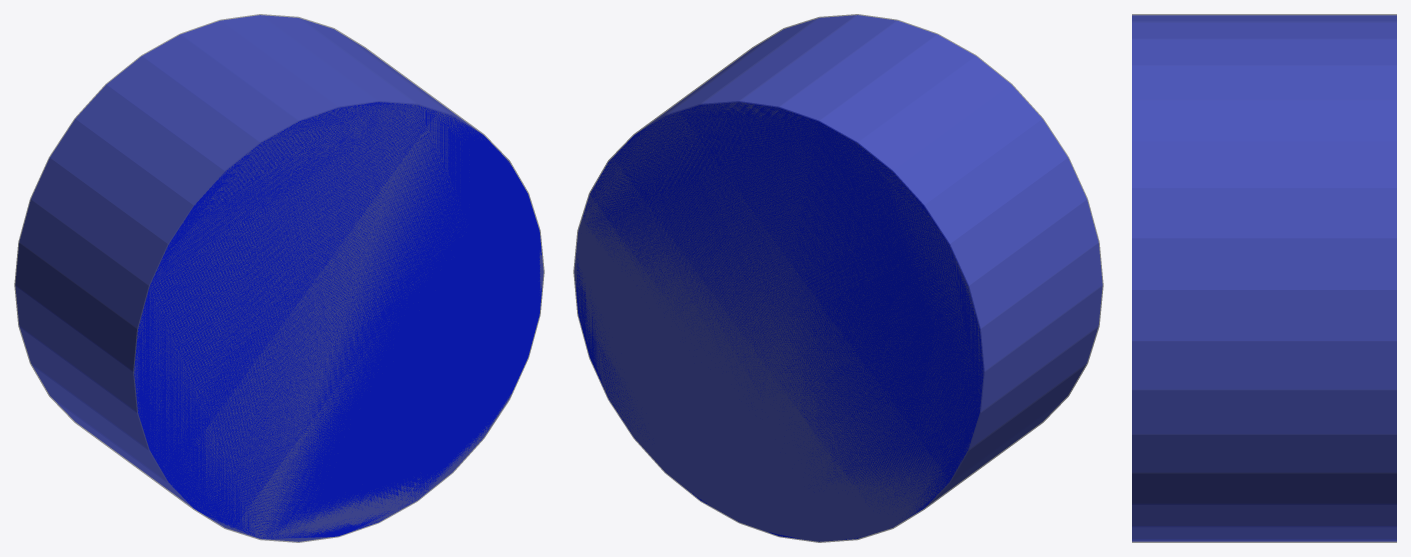
File: tank.glb
3 views of the same model, side by side, from view 1: azimuth 30°, elevation 25°; view 2: azimuth 150°, elevation 25°; view 3: azimuth 270°, elevation 25° (orthographic). The views are drawn at different scales.
Visible parts, largest first — view 1: liquid, Tank; view 2: liquid, Tank; view 3: Tank, liquid.
Part boxes in pixels (x1,y1,x2,y2): liquid: (15,15,543,541); Tank: (14,14,544,542); liquid: (574,15,1102,541); Tank: (573,14,1103,542); Tank: (1132,14,1396,542); liquid: (1132,15,1396,541).
Size of the model in its own units: 4 by 4 by 2.
